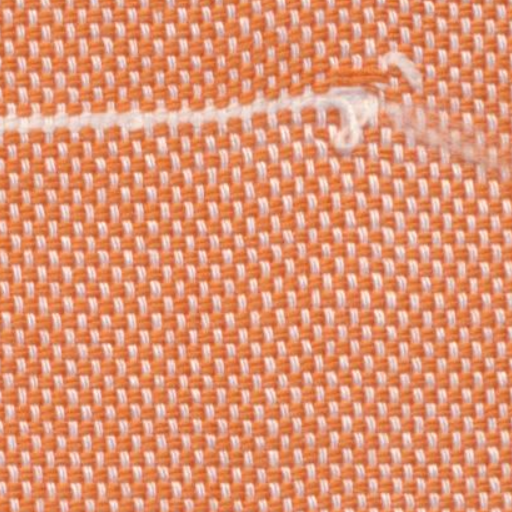DuanSha: (300, 54, 464, 190)
